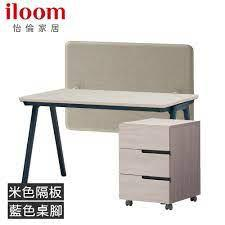desk: (16, 43, 209, 193)
